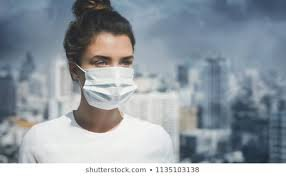mask: (55, 3, 141, 116)
